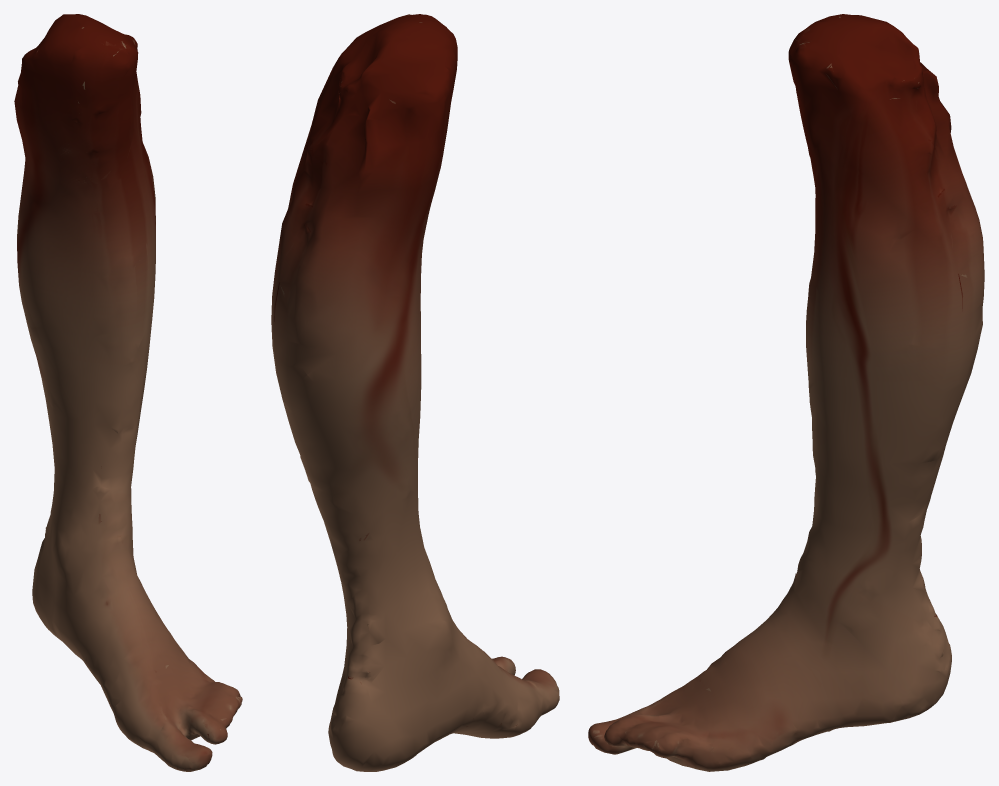
Rendered from leg.fbx.
3 views of the same model, side by side, from view 1: azimuth 30°, elevation 25°; view 2: azimuth 150°, elevation 25°; view 3: azimuth 270°, elevation 25° (orthographic). The views are drawn at different scales.
Visible parts, largest first — view 1: Object_8; view 2: Object_8; view 3: Object_8.
Part boxes in pixels (x1,y1,x2,y2): Object_8: [14, 14, 242, 771]; Object_8: [271, 14, 559, 771]; Object_8: [588, 14, 984, 771].
Size of the model in its own units: 1071 by 438 by 2182.
